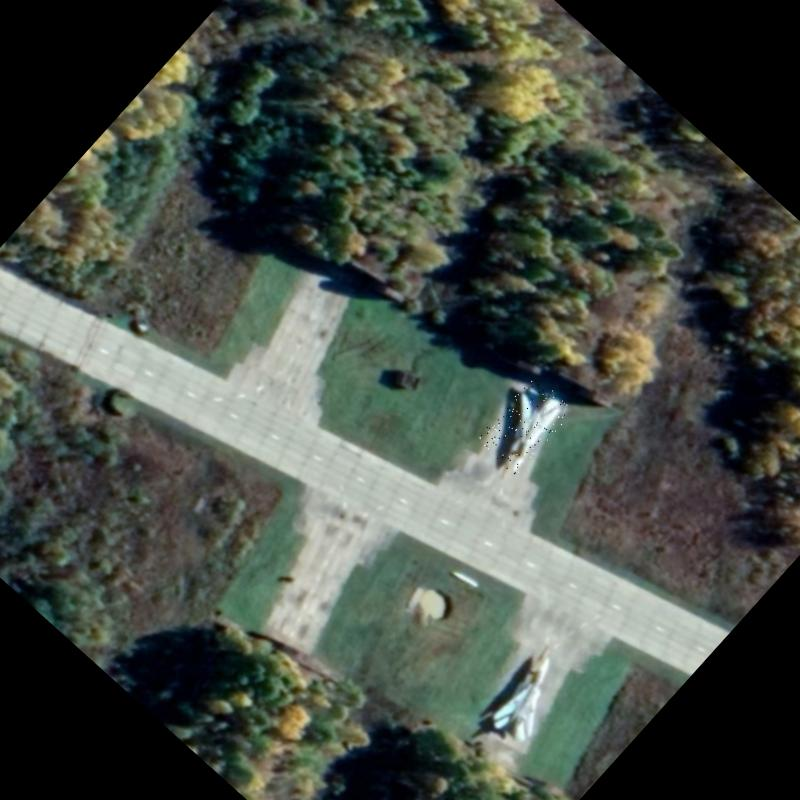A20: (474, 374, 574, 476), (482, 650, 579, 750)
